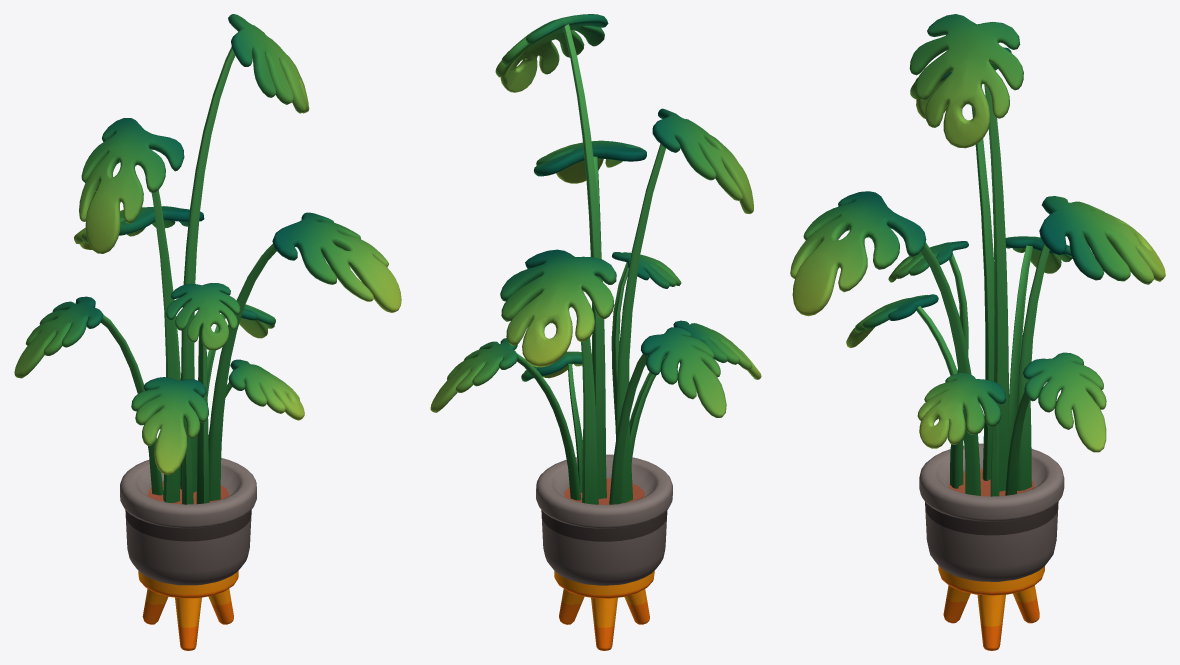
File: Plant_001.glb
3 renders of one model, left to right at view 1: azimuth 30°, elevation 25°; view 2: azimuth 150°, elevation 25°; view 3: azimuth 270°, elevation 25°, orthographic. The views are drawn at different scales.
Visible parts, largest first — view 1: Plant.001; view 2: Plant.001; view 3: Plant.001.
Boxes of the visible parts, left/top/right/bottom form: Plant.001: left=14, top=14, right=401, bottom=650; Plant.001: left=430, top=14, right=761, bottom=650; Plant.001: left=790, top=14, right=1165, bottom=650.
Bounding box in the file's own units: 1.14 × 2.37 × 1.27.
1 material, 1 textured.
